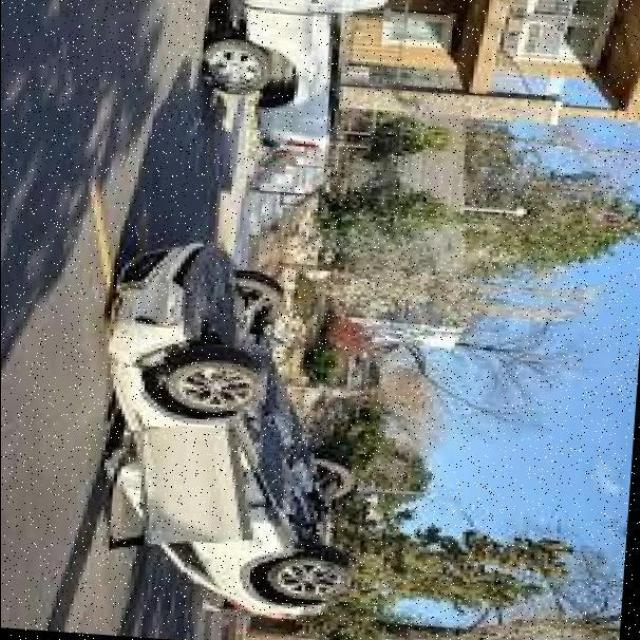accident: (80, 230, 384, 625)
